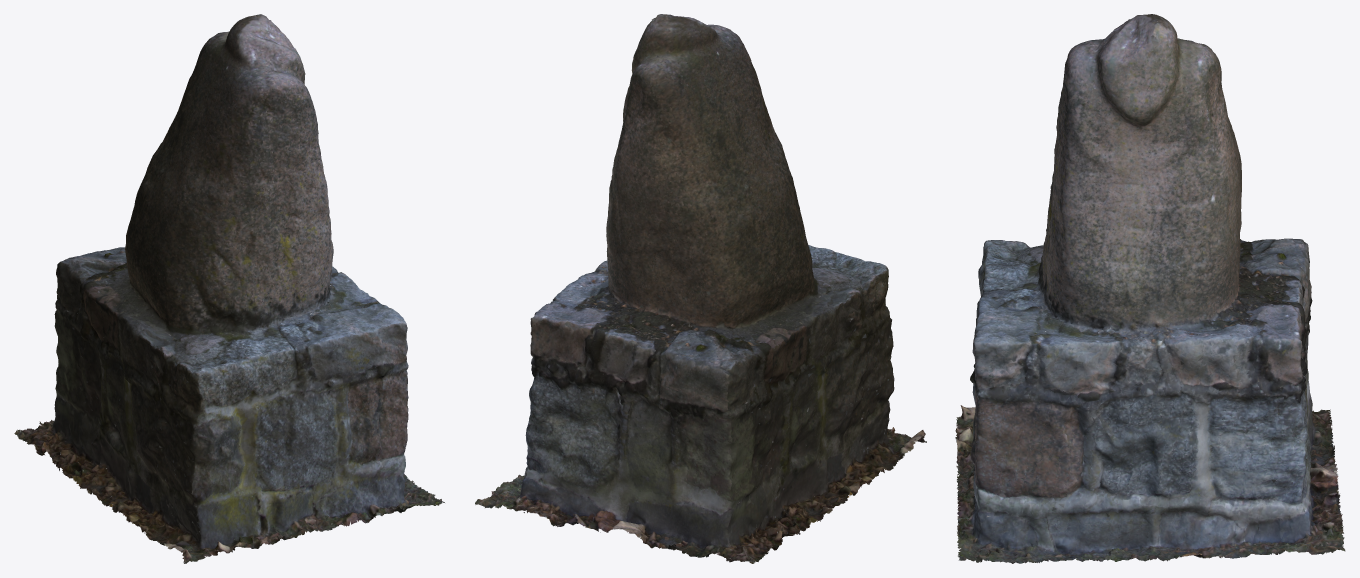
File: GustebaldaLOD.fbx
3 renders of one model, left to right at view 1: azimuth 30°, elevation 25°; view 2: azimuth 150°, elevation 25°; view 3: azimuth 270°, elevation 25°, orthographic. The views are drawn at different scales.
Parts seen in each view (by area): view 1: Gustebalda_LOD0; view 2: Gustebalda_LOD0; view 3: Gustebalda_LOD0.
Boxes of the visible parts, x1,y1,x2,y2 form: Gustebalda_LOD0: (14, 14, 444, 563); Gustebalda_LOD0: (475, 14, 926, 563); Gustebalda_LOD0: (955, 14, 1345, 563).
Size of what is drawn, in the model's own units: 0.8648 by 1.4 by 1.01.
Materials: 1 (1 with a texture image).
